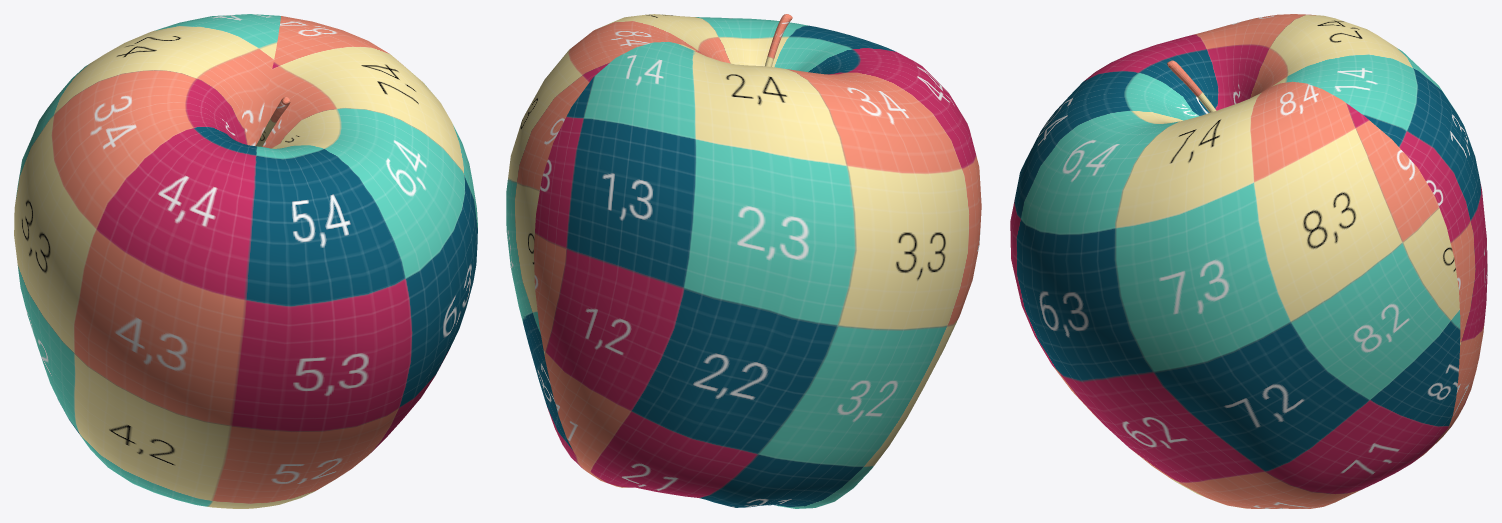
The model's file is Apple.obj.
3 renders of one model, left to right at view 1: azimuth 30°, elevation 25°; view 2: azimuth 150°, elevation 25°; view 3: azimuth 270°, elevation 25°, orthographic. The views are drawn at different scales.
Parts seen in each view (by area): view 1: Apple2 Fruit_Bowl; view 2: Apple2 Fruit_Bowl; view 3: Apple2 Fruit_Bowl.
Boxes of the visible parts, x1=… form: Apple2 Fruit_Bowl: x1=14, y1=14, x2=477, y2=508; Apple2 Fruit_Bowl: x1=506, y1=14, x2=981, y2=508; Apple2 Fruit_Bowl: x1=1010, y1=14, x2=1487, y2=508.
Bounding box in the file's own units: 8.19 × 8.67 × 8.53.
